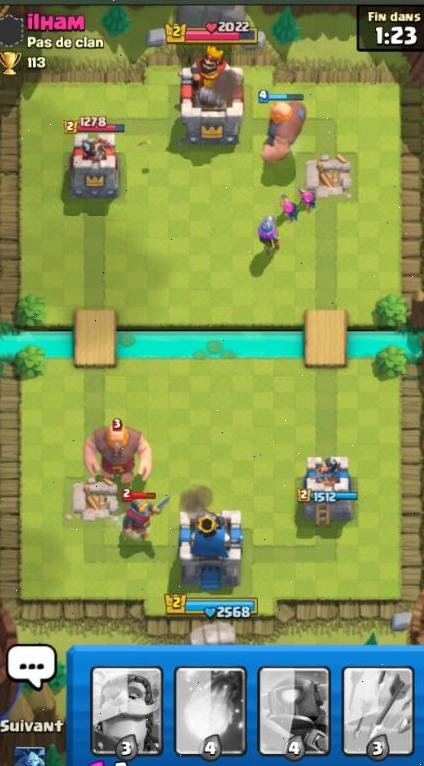enemy_giant: (80, 415, 155, 488)
enemy_knight: (112, 485, 172, 546)
player_archers: (276, 190, 301, 224), (294, 182, 319, 212)
player_giant: (255, 91, 309, 162)
player_musketeer: (251, 210, 283, 255)
